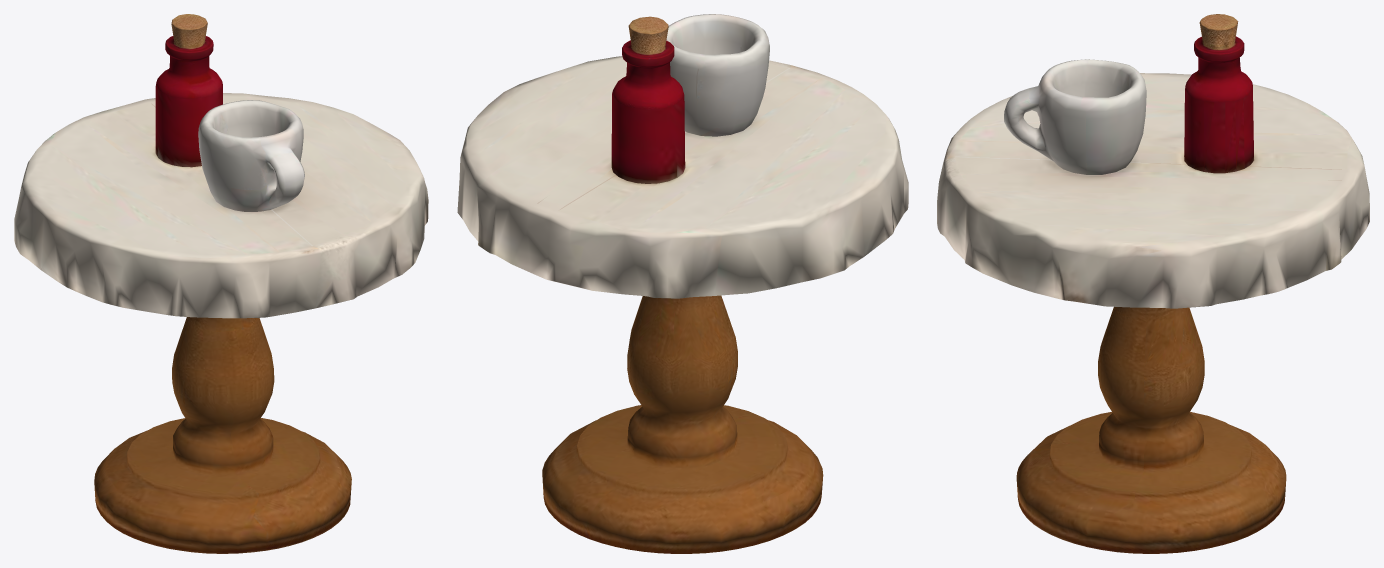
Rendered from table.glb.
3 renders of one model, left to right at view 1: azimuth 30°, elevation 25°; view 2: azimuth 150°, elevation 25°; view 3: azimuth 270°, elevation 25°, orthographic. The views are drawn at different scales.
Parts seen in each view (by area): view 1: tripo_node_6b9660be-6770-4659-b56c-1befbd662c54; view 2: tripo_node_6b9660be-6770-4659-b56c-1befbd662c54; view 3: tripo_node_6b9660be-6770-4659-b56c-1befbd662c54.
Boxes of the visible parts, box(x1,y1,x2,y2) form: tripo_node_6b9660be-6770-4659-b56c-1befbd662c54: box(14, 14, 428, 553); tripo_node_6b9660be-6770-4659-b56c-1befbd662c54: box(457, 14, 908, 553); tripo_node_6b9660be-6770-4659-b56c-1befbd662c54: box(937, 14, 1369, 553).
Size of the model in its own units: 0.813 by 0.9995 by 0.8237.
Materials: 1 (1 with a texture image).
